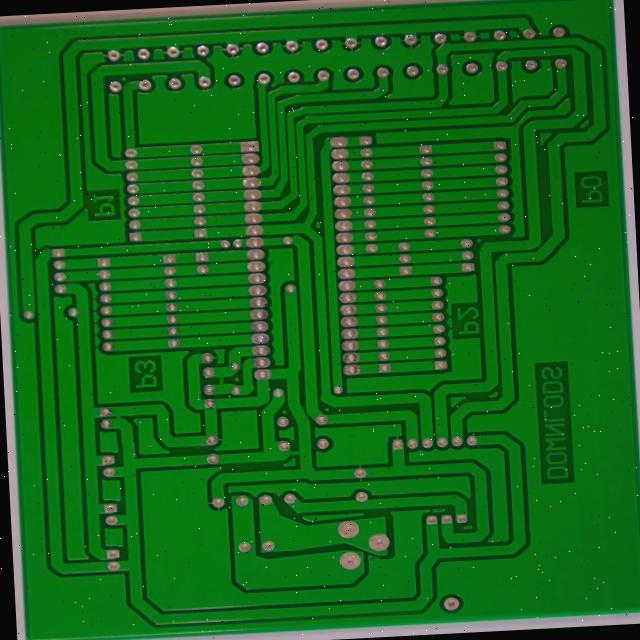short: (290, 457, 328, 487), (108, 421, 138, 444), (219, 384, 248, 405)
